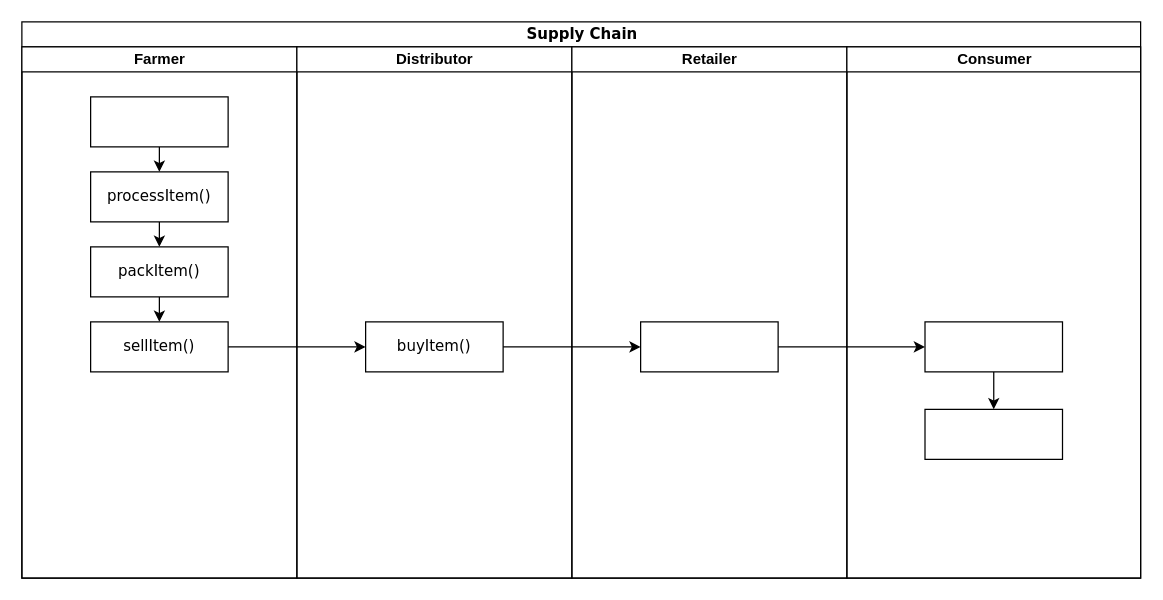
Image size: 1163x600. Some labels were removed from this diagram. Each missing label, with the centre of its shape:
"harverstItem()" goes at (x=158, y=121).
"purchaseItem()" goes at (x=993, y=433).
"receiveItem()" goes at (x=993, y=346).
"shipItem()" goes at (x=708, y=346).
